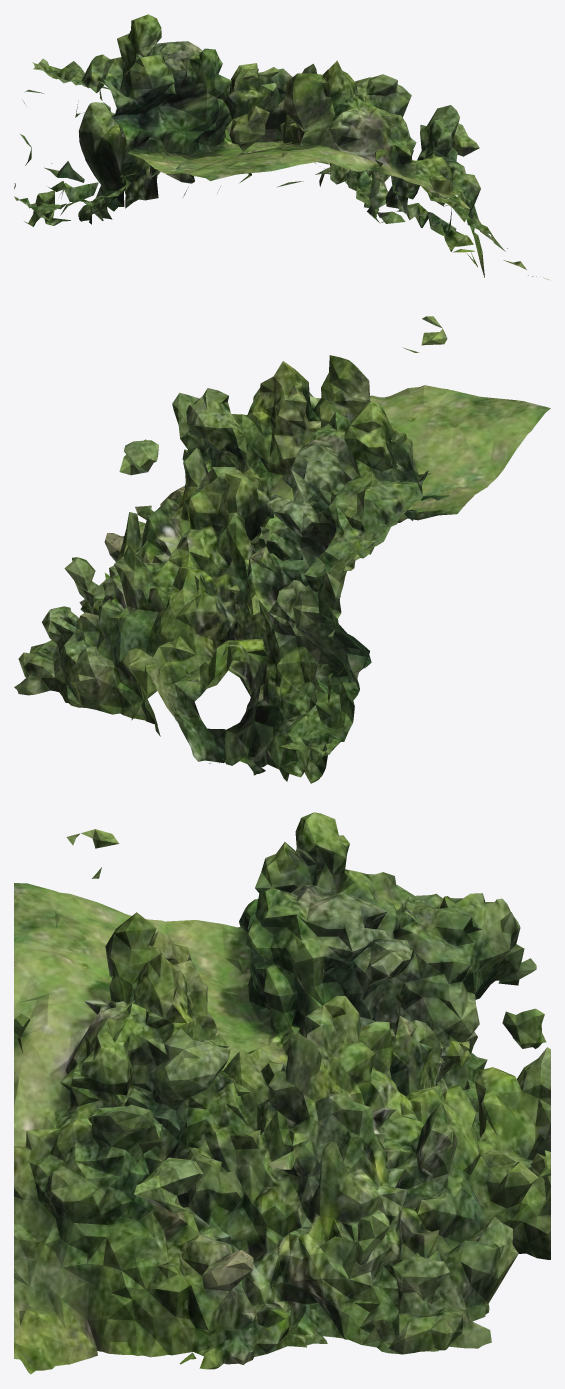
3 renders of one model, top to bottom at view 1: azimuth 30°, elevation 25°; view 2: azimuth 150°, elevation 25°; view 3: azimuth 270°, elevation 25°, orthographic. The views are drawn at different scales.
Bounding box in the file's own units: 52.22 × 39.64 × 52.22.
Materials: 6 (6 with a texture image).
